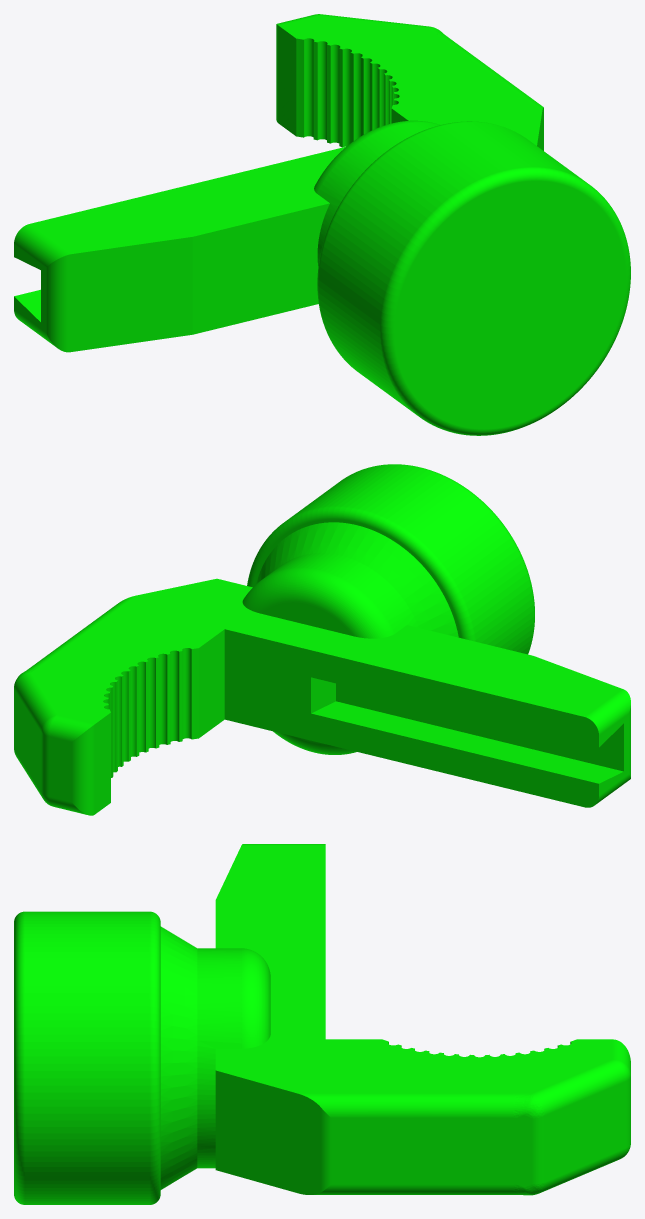
Rendered from gripper_base_link_body.dae.
The picture shows the model from 3 angles, top to bottom: view 1: azimuth 30°, elevation 25°; view 2: azimuth 150°, elevation 25°; view 3: azimuth 270°, elevation 25°; orthographic projection. The views are drawn at different scales.
Visible parts, largest first — view 1: node0; view 2: node0; view 3: node0.
Part boxes in pixels (bbox=[...]): node0: bbox=[14, 14, 630, 435]; node0: bbox=[14, 464, 630, 815]; node0: bbox=[14, 844, 630, 1204].
Bounding box in the file's own units: 0.17 × 0.1683 × 0.08.
